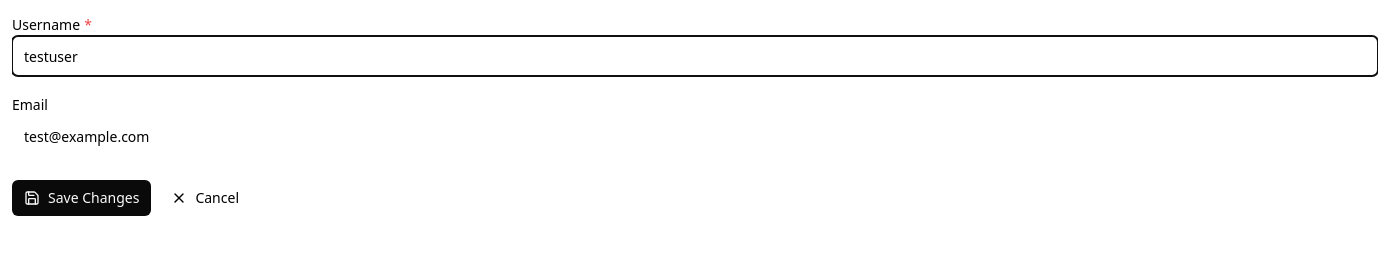
ProfileEditForm › Form Validation › should validate required fields and display error - Requirement 5.2, 5.3
Clear the field labelled "Username*" at point(695, 56), box [12,36,1378,76]
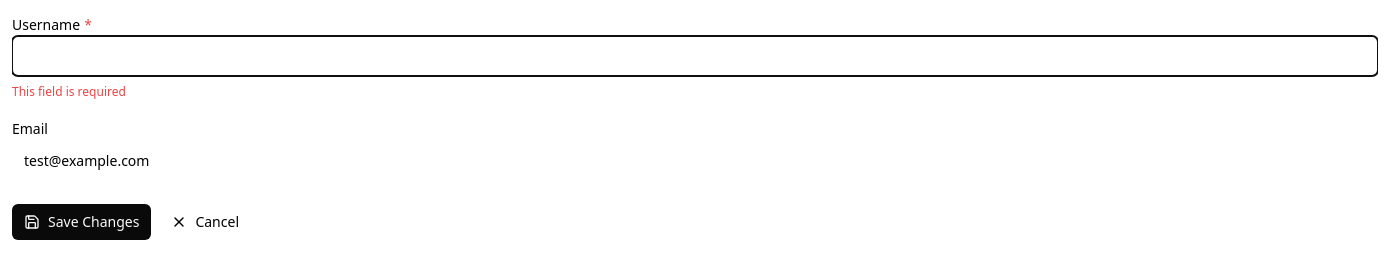
Result: the text "This field is required" is shown at [12,83,126,100]
